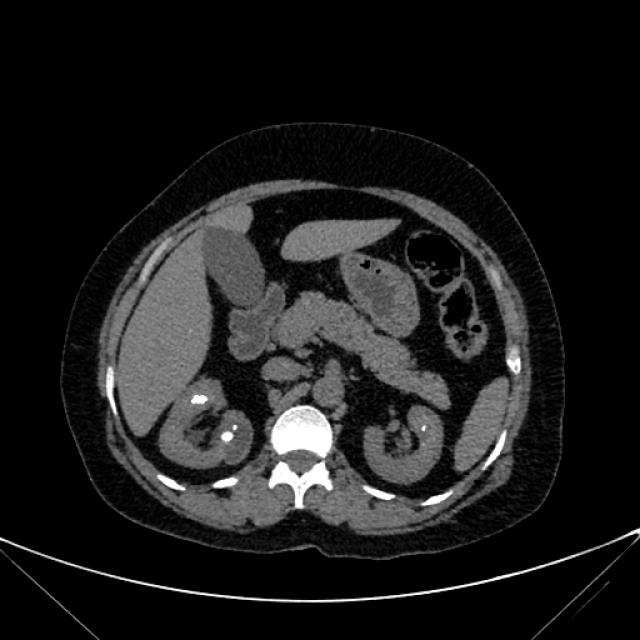kidney: (176, 392, 242, 462), (364, 420, 435, 480)
stone: (194, 396, 206, 404), (222, 433, 233, 441), (422, 426, 426, 432), (233, 426, 237, 430)
